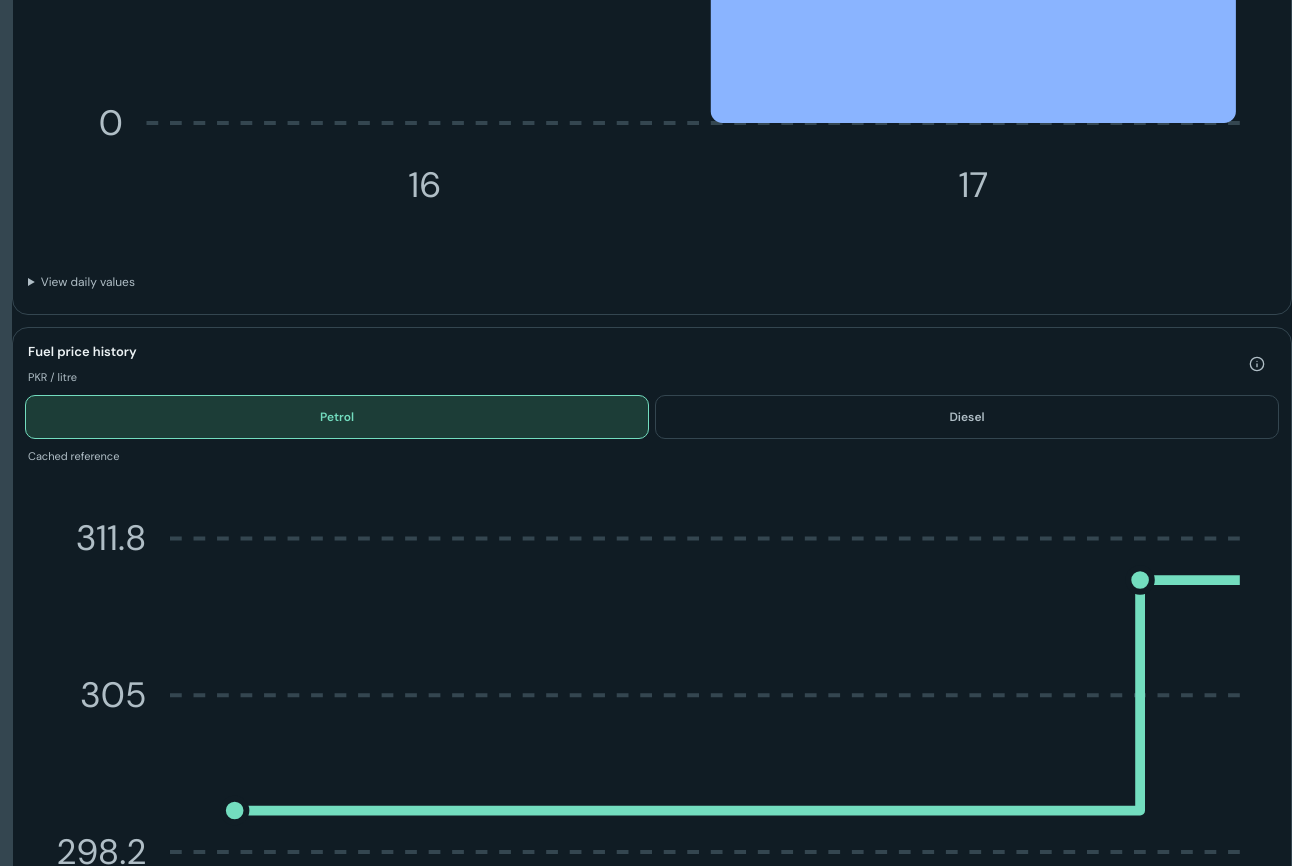
Test: plots only published cached price changes as steps, switches product, and excludes future rates
(page scrolled)
Expected: the text "Cached reference" is shown, [28, 449, 119, 463]
Click the button "Diesel" at [967, 417], box [655, 395, 1279, 439]
(page scrolled)
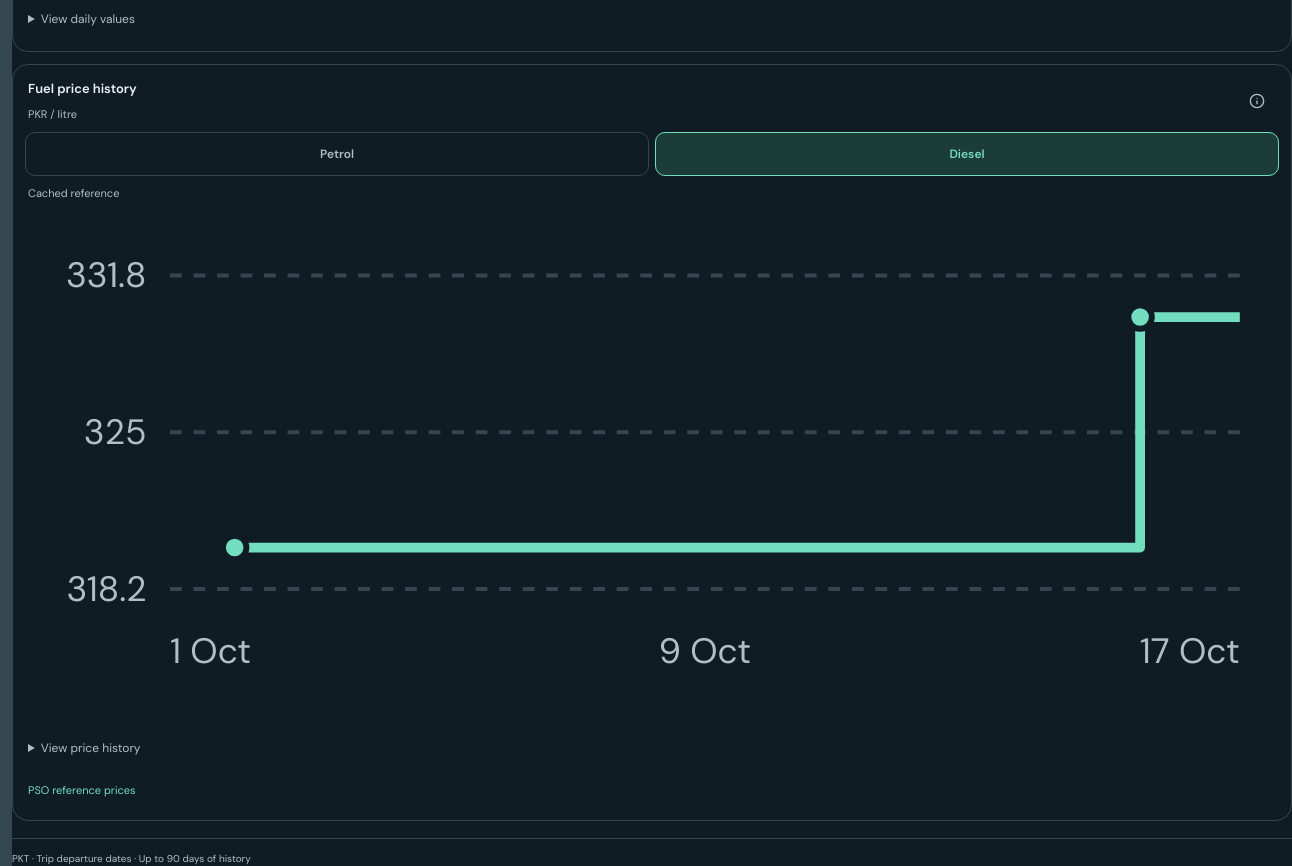
Expected: the picture named "Fuel price history · Diesel" is shown, [25, 205, 1279, 726]
Click the heading "View price history" at [91, 748], box [41, 740, 140, 756]
(page scrolled)
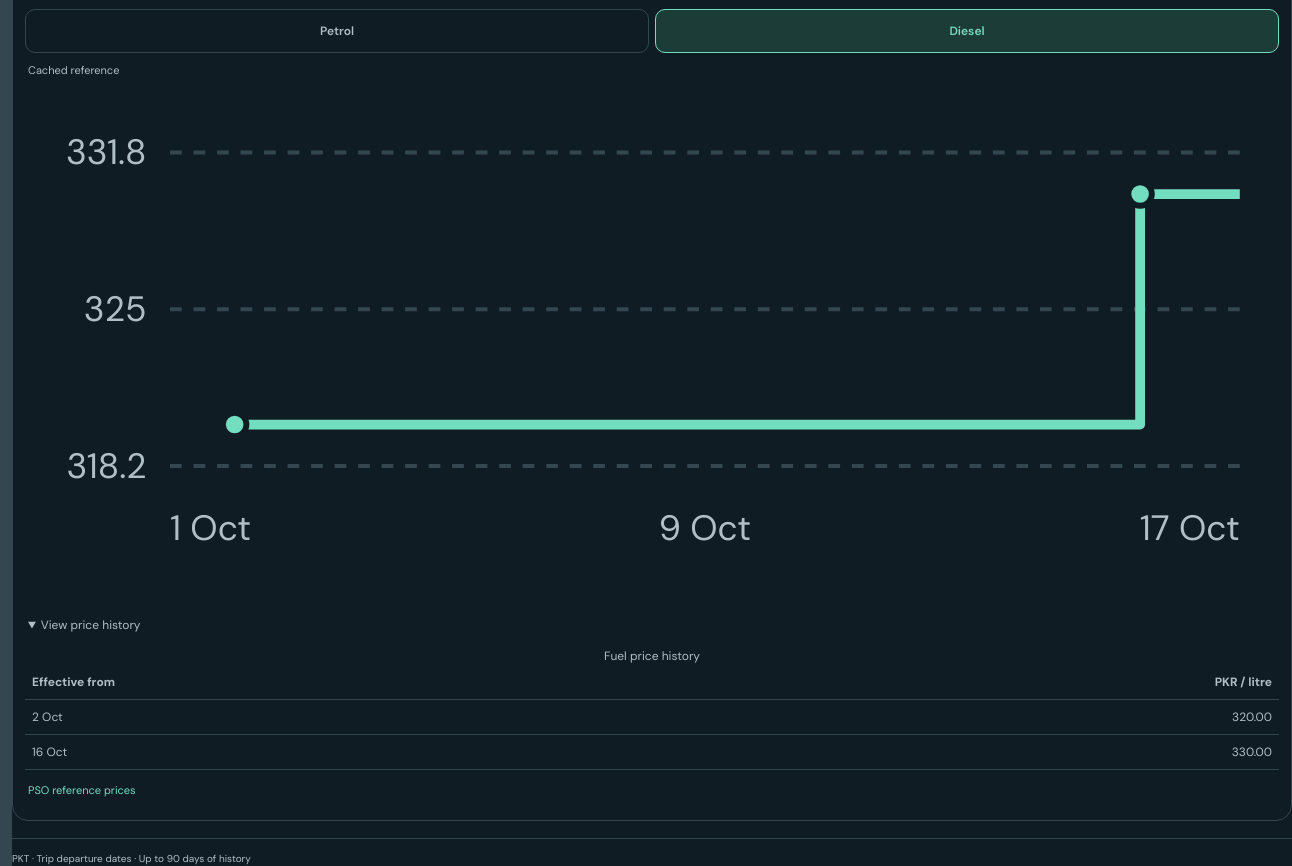
Expected: the text "320.00" is shown, [748, 700, 1279, 735]
Expected: the text "330.00" is shown, [748, 735, 1279, 770]
